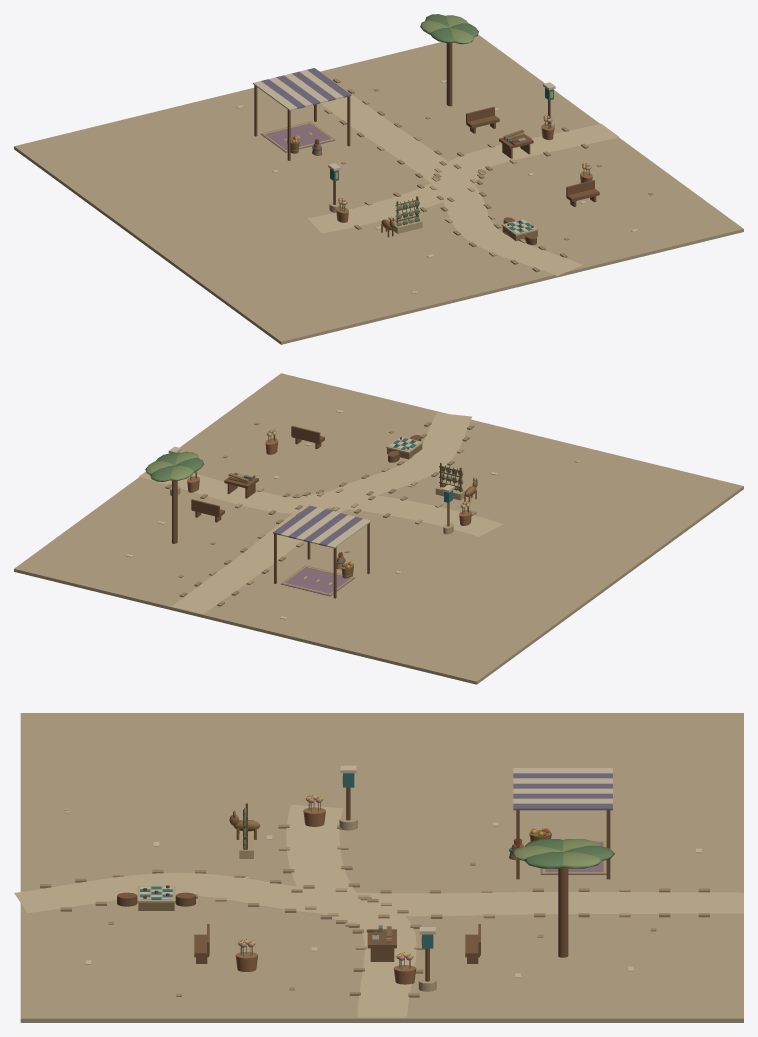
Rendered from city-lane-3.glb.
3 views of the same model, one above another, from view 1: azimuth 30°, elevation 25°; view 2: azimuth 150°, elevation 25°; view 3: azimuth 270°, elevation 25° (orthographic). The views are drawn at different scales.
Parts seen in each view (by area): view 1: city-lane-3; view 2: city-lane-3; view 3: city-lane-3.
Boxes of the visible parts, x1,y1,x2,y2 form: city-lane-3: (14, 14, 743, 344); city-lane-3: (14, 373, 743, 684); city-lane-3: (14, 713, 743, 1022).
Bounding box in the file's own units: 32 × 5.44 × 32.3.
